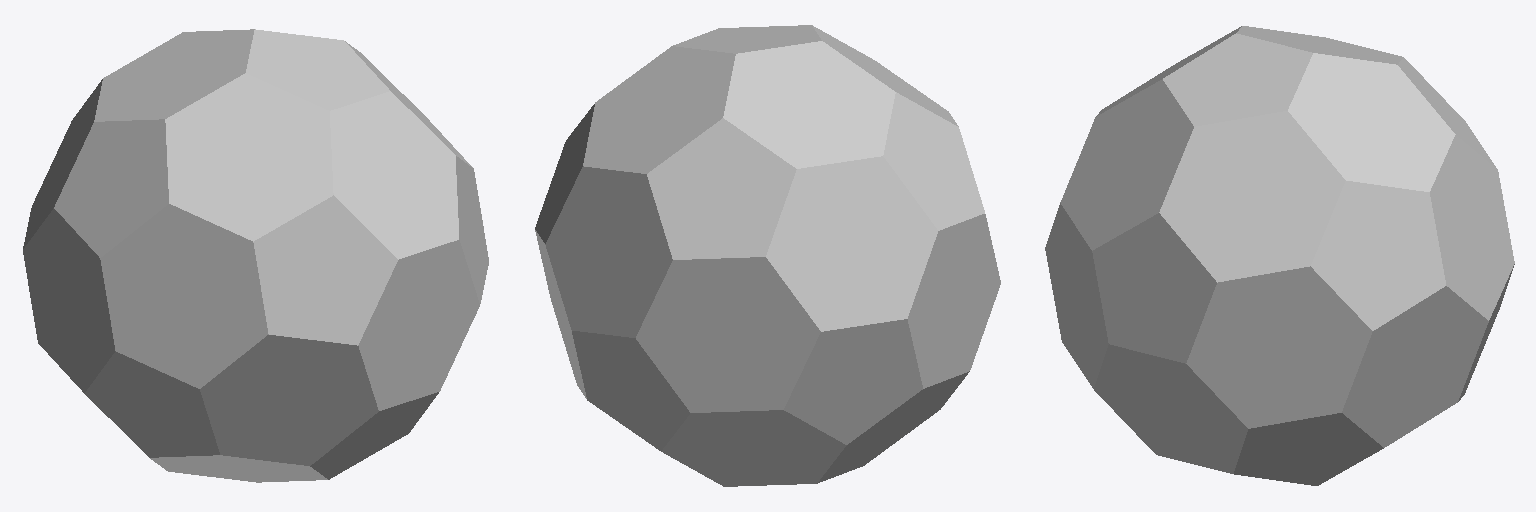
Rendered from TruncatedIcosahedron.obj.
The picture shows the model from 3 angles: view 1: azimuth 30°, elevation 25°; view 2: azimuth 150°, elevation 25°; view 3: azimuth 270°, elevation 25°; orthographic projection.
Visible parts, largest first — view 1: TruncatedIcosahedron; view 2: TruncatedIcosahedron; view 3: TruncatedIcosahedron.
Boxes of the visible parts, box(x1,y1,x2,y2) form: TruncatedIcosahedron: box(23, 29, 488, 482); TruncatedIcosahedron: box(535, 25, 1000, 486); TruncatedIcosahedron: box(1045, 26, 1514, 485).
Size of the model in its own units: 1.4 by 1.51 by 1.53.